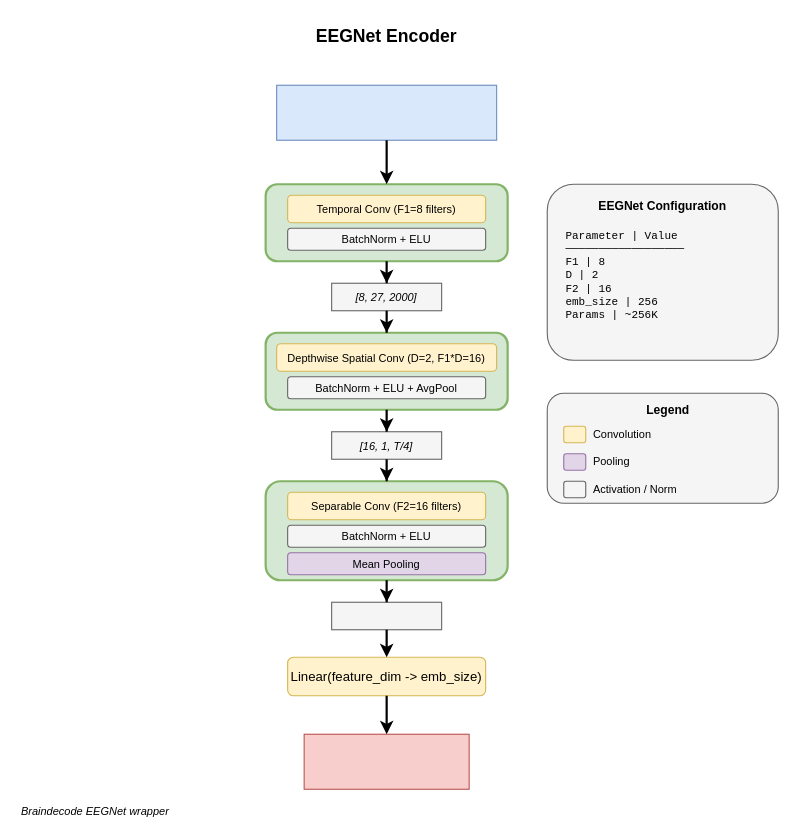
Some shapes in this 798 by 840 pixel diagram are drawn without their labels. Here are the shapes that lost their labels. From the top down, the centre of each, then its label:
point (386, 112): Input: [batch, 27, 2000] (channels, samples per window)
point (386, 615): [feature_dim]
point (386, 761): Output: [256-dim] (per window)
